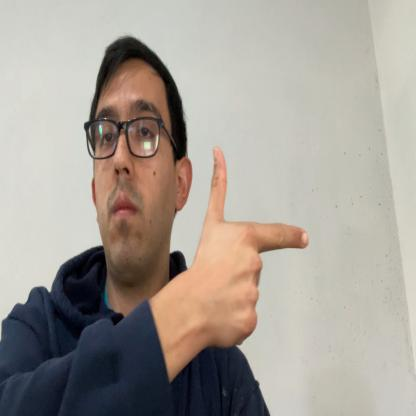G: (196, 145, 309, 348)
